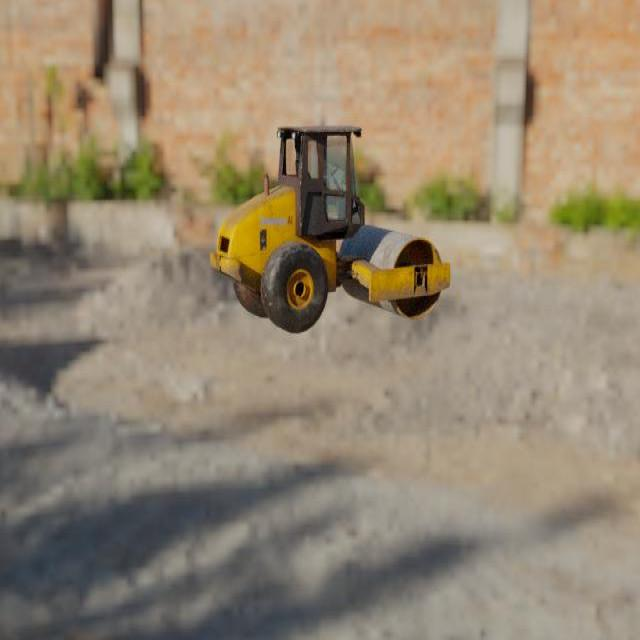Roller: (209, 125, 450, 334)
